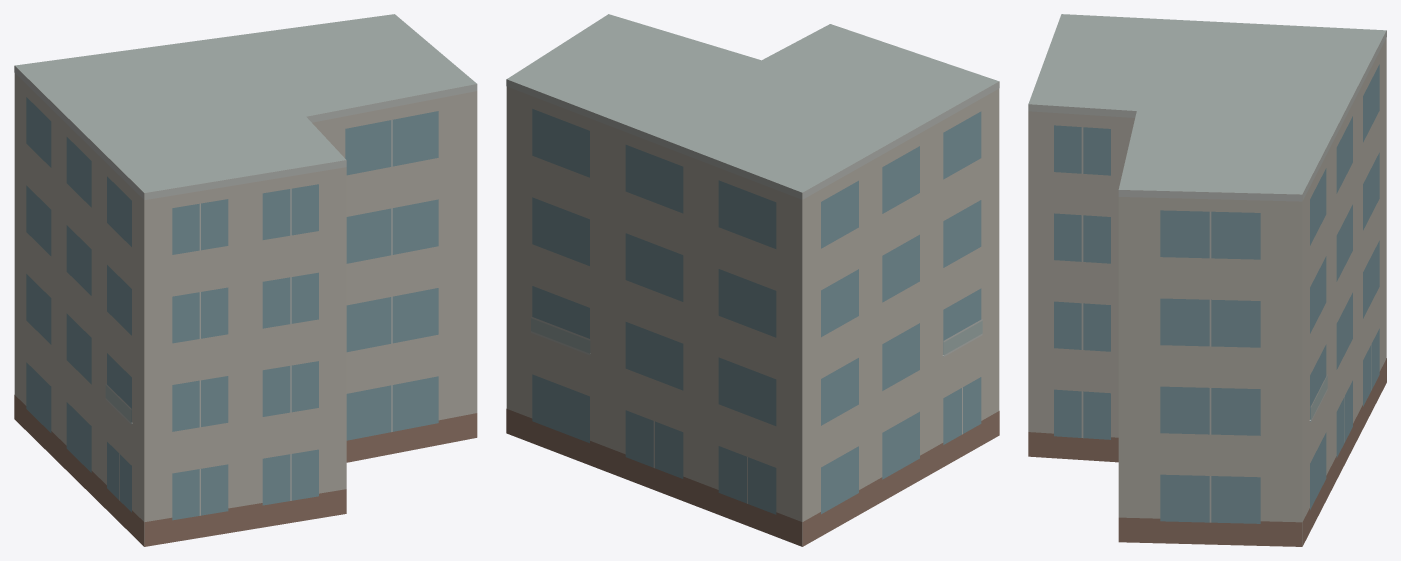
The model's file is survey-upis-32995295.glb.
The picture shows the model from 3 angles, left to right: view 1: azimuth 30°, elevation 25°; view 2: azimuth 150°, elevation 25°; view 3: azimuth 270°, elevation 25°; orthographic projection.
Parts seen in each view (by area): view 1: survey-upis-32995295.tmp; view 2: survey-upis-32995295.tmp; view 3: survey-upis-32995295.tmp.
Part boxes in pixels (left/top/right/bottom): survey-upis-32995295.tmp: left=14, top=14, right=477, bottom=546; survey-upis-32995295.tmp: left=506, top=14, right=999, bottom=546; survey-upis-32995295.tmp: left=1028, top=14, right=1386, bottom=546.
Bounding box in the file's own units: 13.41 × 12.2 × 11.26.
